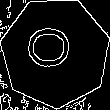O_E: (29, 30, 81, 75)
